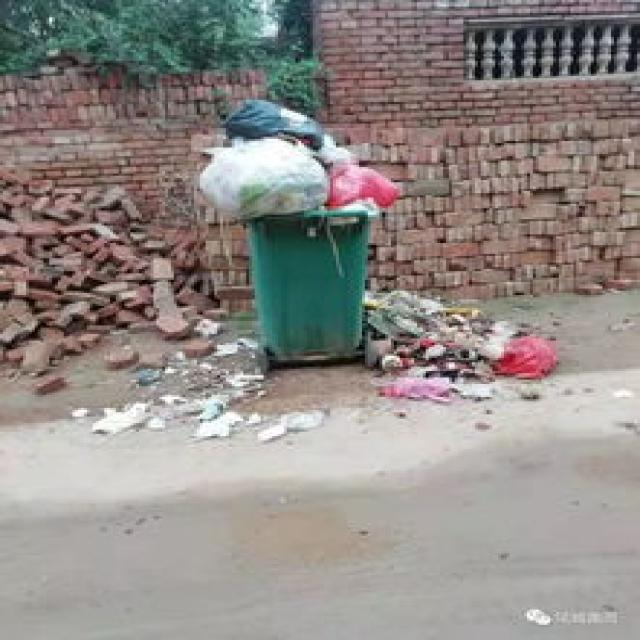garbage: (66, 317, 322, 440), (359, 286, 556, 402)
overflow: (191, 95, 397, 354)
